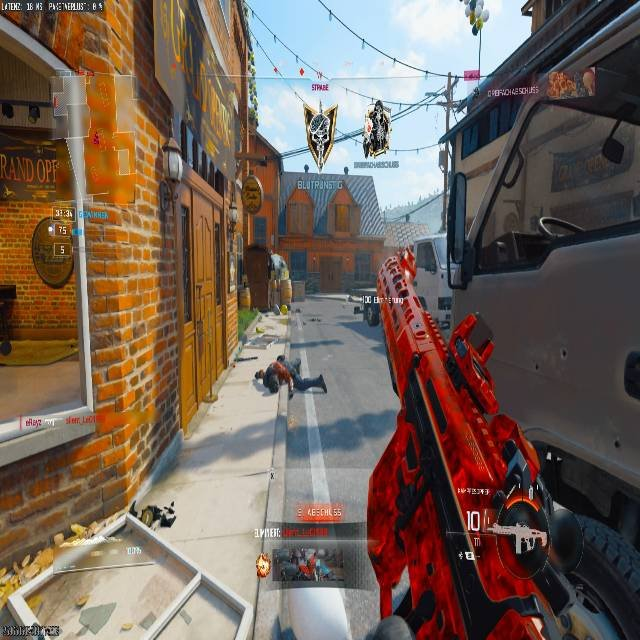head: (277, 355, 287, 365)
player: (254, 356, 305, 398)
